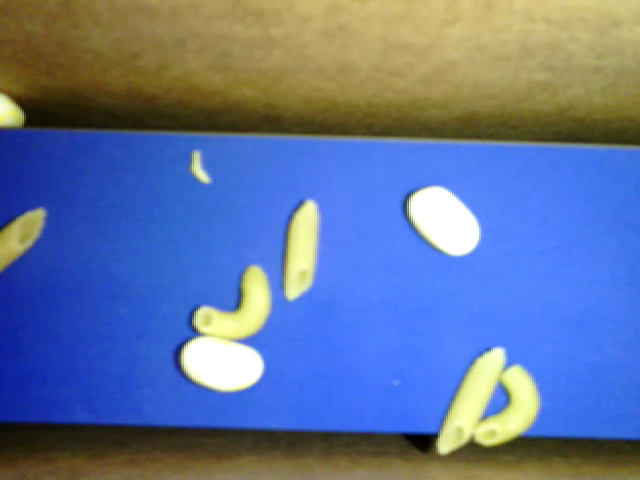elbow: (192, 262, 272, 340), (472, 364, 541, 447)
penne: (435, 347, 506, 456), (282, 198, 321, 304), (1, 207, 47, 276)
